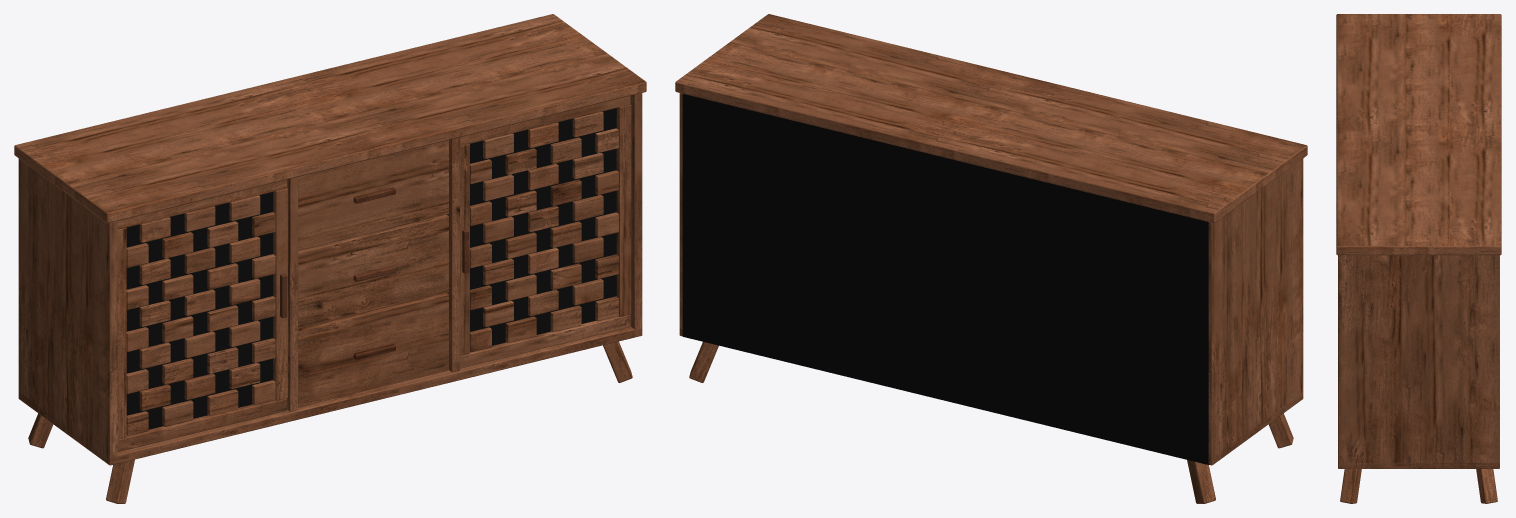
File: sideboard-biwa.glb
3 views of the same model, side by side, from view 1: azimuth 30°, elevation 25°; view 2: azimuth 150°, elevation 25°; view 3: azimuth 270°, elevation 25° (orthographic). The views are drawn at different scales.
Size of the model in its own units: 1.6 by 0.8488 by 0.4799.
3 materials, 2 textured.
